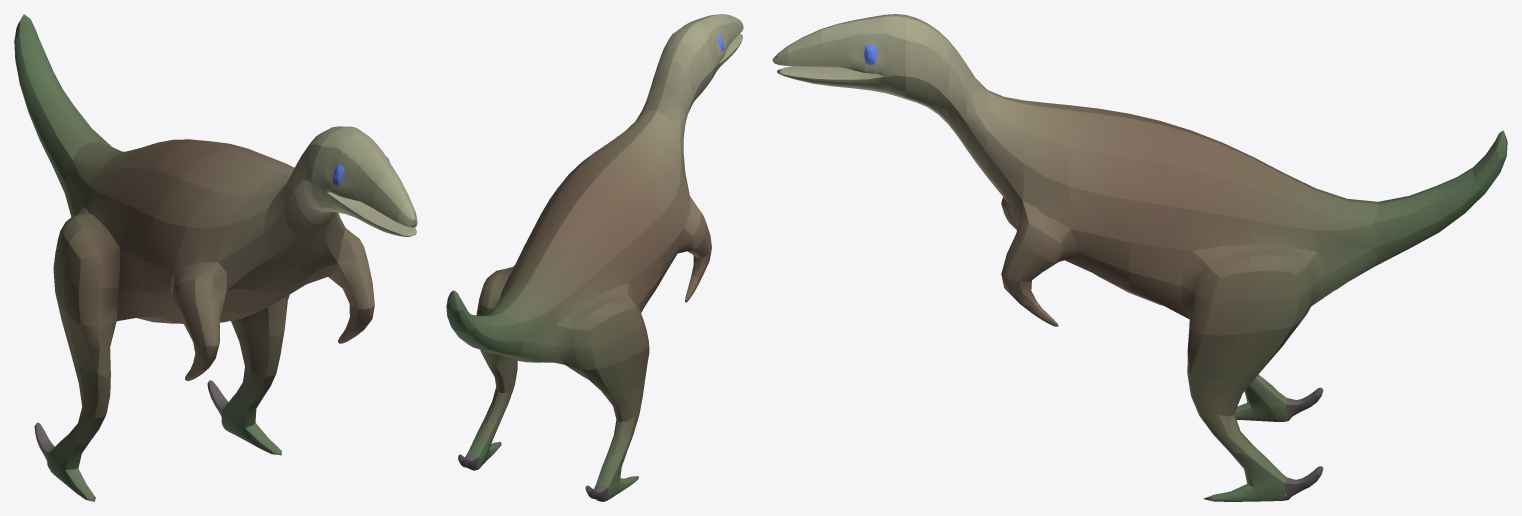
The model's file is dino.obj.
3 views of the same model, side by side, from view 1: azimuth 30°, elevation 25°; view 2: azimuth 150°, elevation 25°; view 3: azimuth 270°, elevation 25° (orthographic). The views are drawn at different scales.
Visible parts, largest first — view 1: Dino_Cube.001; view 2: Dino_Cube.001; view 3: Dino_Cube.001.
Boxes of the visible parts, left/top/right/bottom form: Dino_Cube.001: left=14, top=14, right=417, bottom=501; Dino_Cube.001: left=446, top=14, right=743, bottom=501; Dino_Cube.001: left=772, top=14, right=1507, bottom=501.
Bounding box in the file's own units: 2.44 × 5.33 × 8.02.
